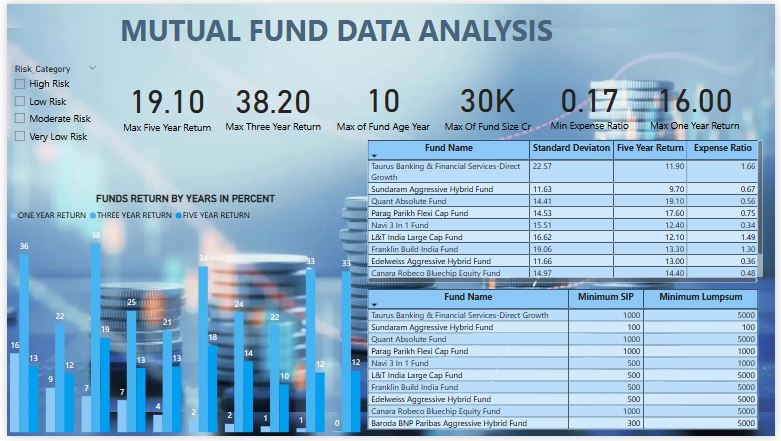

The dashboard page shown, as its layout file describes it:
{"tool":"powerbi","page":{"name":"Page 4","canvas":[1280,720],"ordinal":0},"visuals":[{"type":"card","fields":{"Values":["Max(comprehensive_mutual_funds_data.returns_1yr)"]},"box":[1050,108.3,191.7,111.7],"z":0},{"type":"card","fields":{"Values":["Max(comprehensive_mutual_funds_data.returns_3yr)"]},"box":[350,110,186.7,111.7],"z":1},{"type":"card","fields":{"Values":["Max(comprehensive_mutual_funds_data.returns_5yr)"]},"box":[183.3,111.7,166.7,110],"z":2},{"type":"clusteredColumnChart","title":"FUNDS RETURN BY YEARS IN PERCENT ","fields":{"Category":["comprehensive_mutual_funds_data.scheme_name"],"Y":["Sum(comprehensive_mutual_funds_data.returns_1yr)","Sum(comprehensive_mutual_funds_data.returns_3yr)","Sum(comprehensive_mutual_funds_data.returns_5yr)"]},"box":[0,313.3,595,406.7],"z":3},{"type":"tableEx","fields":{"Values":["comprehensive_mutual_funds_data.scheme_name","comprehensive_mutual_funds_data.sd","Sum(comprehensive_mutual_funds_data.returns_5yr)","Sum(comprehensive_mutual_funds_data.expense_ratio)"]},"box":[595,221.7,670,248.3],"z":4},{"type":"card","fields":{"Values":["Min(comprehensive_mutual_funds_data.expense_ratio)"]},"box":[891.7,108.3,158.3,111.7],"z":5},{"type":"tableEx","fields":{"Values":["comprehensive_mutual_funds_data.scheme_name","Min(comprehensive_mutual_funds_data.min_sip)","Min(comprehensive_mutual_funds_data.min_lumpsum)"]},"box":[595,470,670,250],"z":6},{"type":"card","fields":{"Values":["Max(comprehensive_mutual_funds_data.fund_size_cr)"]},"box":[716.7,110,168.3,110],"z":7},{"type":"card","fields":{"Values":["Max(comprehensive_mutual_funds_data.fund_age_yr)"]},"box":[536.7,110,180,110],"z":8},{"type":"slicer","fields":{"Values":["comprehensive_mutual_funds_data.Risk_Category"]},"box":[0,95,161.7,161.7],"z":9},{"type":"textbox","box":[168.3,5,761.7,90],"z":10}]}

Visuals, with their boxes in screenshot pixels (x1, y1, x2, y2), scaled from the page's 1280x720 canvas onto the 781x441 screenshot:
card - Max(comprehensive_mutual_funds_data.returns_1yr): region(641, 66, 758, 135)
card - Max(comprehensive_mutual_funds_data.returns_3yr): region(214, 67, 327, 136)
card - Max(comprehensive_mutual_funds_data.returns_5yr): region(112, 68, 214, 136)
"FUNDS RETURN BY YEARS IN PERCENT " clusteredColumnChart: region(0, 192, 363, 440)
tableEx - comprehensive_mutual_funds_data.scheme_name x comprehensive_mutual_funds_data.sd: region(363, 136, 772, 288)
card - Min(comprehensive_mutual_funds_data.expense_ratio): region(544, 66, 641, 135)
tableEx - comprehensive_mutual_funds_data.scheme_name x Min(comprehensive_mutual_funds_data.min_sip): region(363, 288, 772, 440)
card - Max(comprehensive_mutual_funds_data.fund_size_cr): region(437, 67, 540, 135)
card - Max(comprehensive_mutual_funds_data.fund_age_yr): region(327, 67, 437, 135)
slicer - comprehensive_mutual_funds_data.Risk_Category: region(0, 58, 99, 157)
textbox: region(103, 3, 567, 58)
